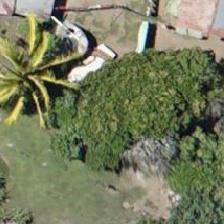coconut_tree: (0, 25, 67, 115)
